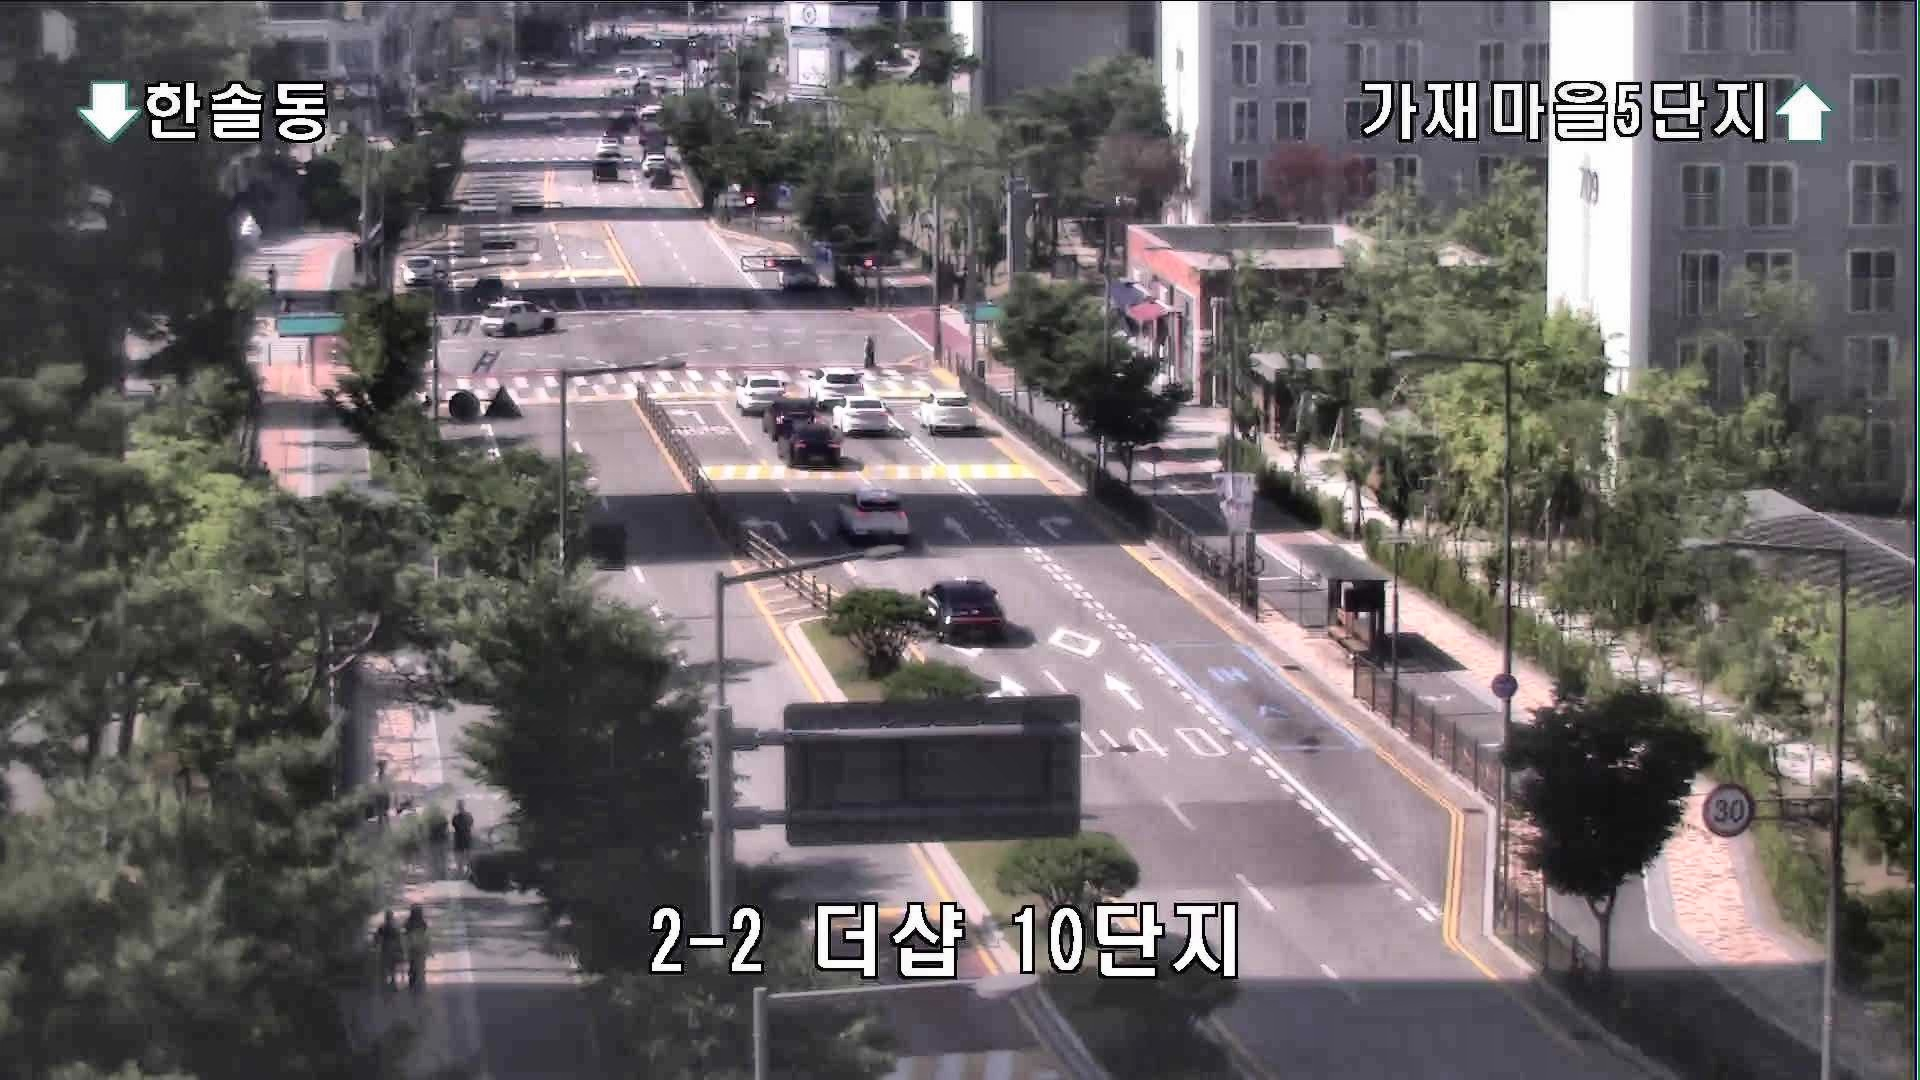crosswalk: (862, 335, 876, 371)
sidewalk: (404, 903, 435, 992), (419, 791, 448, 880), (371, 907, 400, 992), (451, 796, 477, 882), (367, 756, 398, 827), (261, 260, 282, 297)
